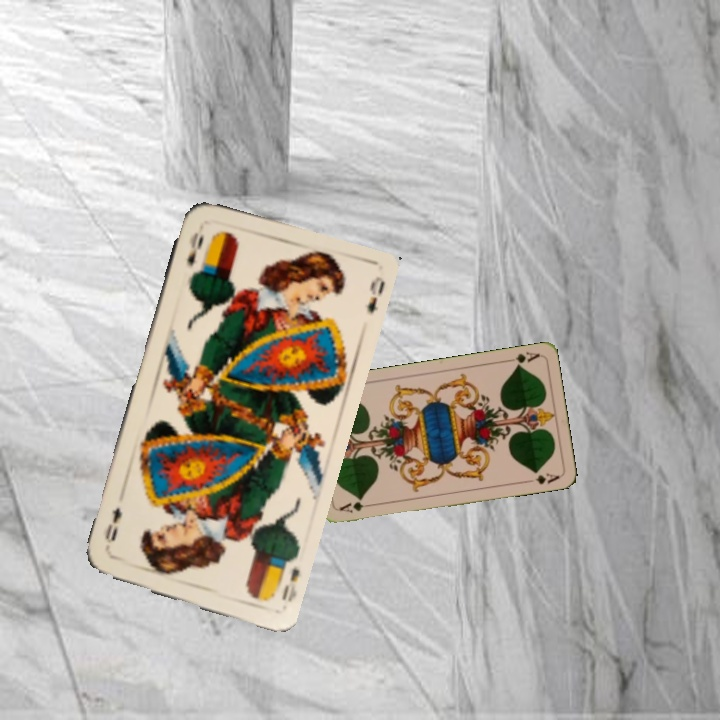EO: (277, 563, 303, 605), (182, 228, 207, 269)
GA: (501, 348, 542, 369), (335, 498, 375, 516)
